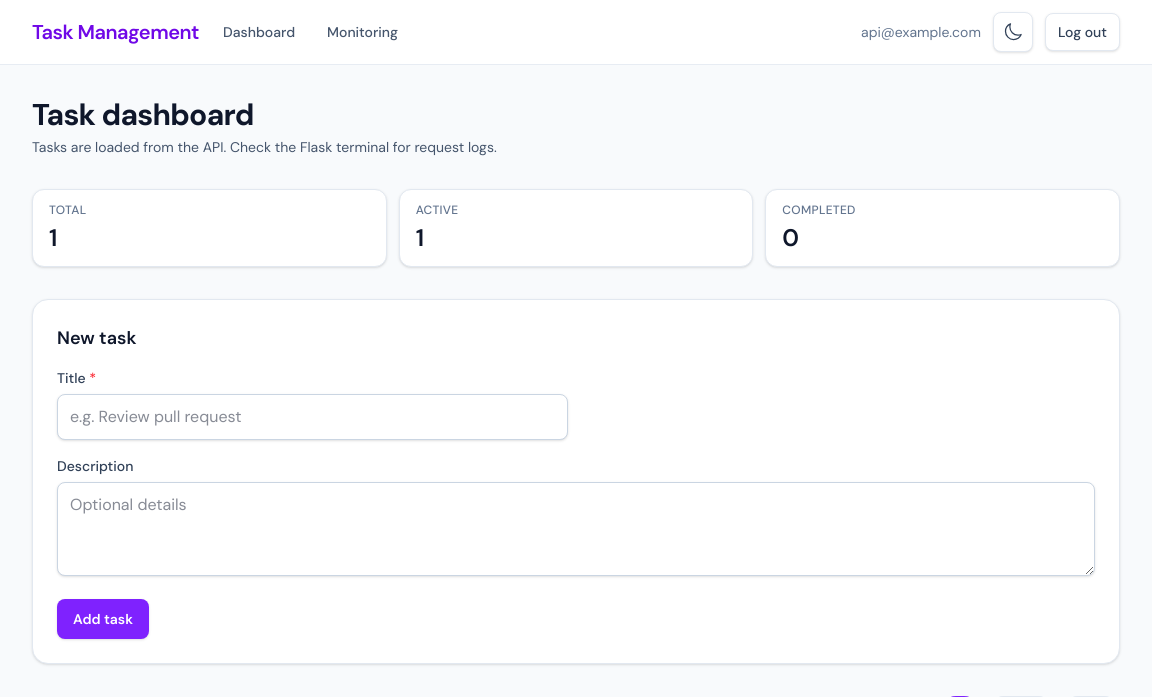
Test case: DashboardPage (API mode) › shows form error when createTaskApi fails
Type "X" into the field with test id "task-title-input" at (312, 417), box [57, 394, 568, 440]
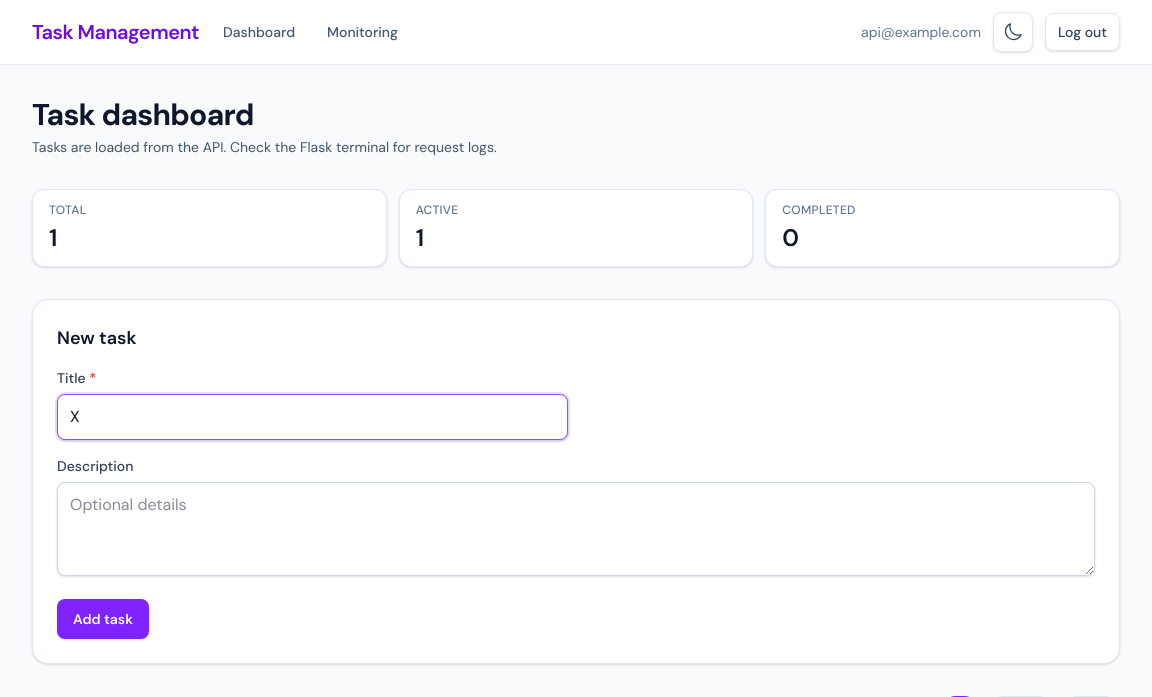
Click the button with test id "task-add-submit" at (103, 619), box [57, 599, 149, 639]
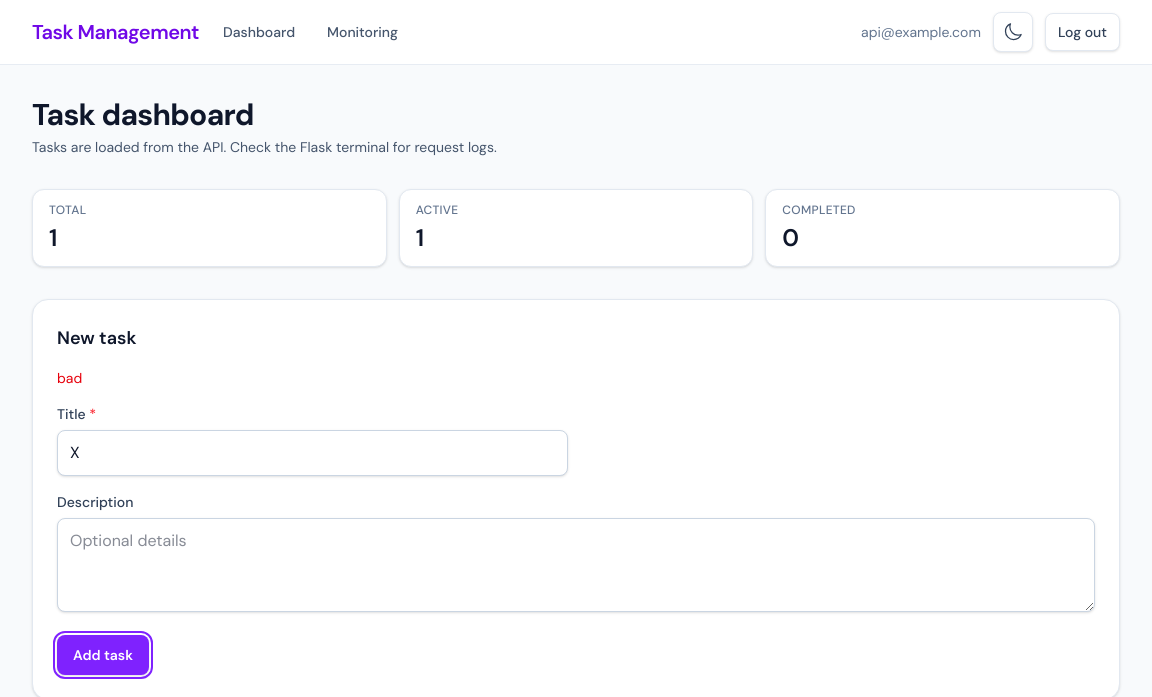
Result: the message with test id "task-form-error" reads "bad" at [57, 369, 82, 387]
